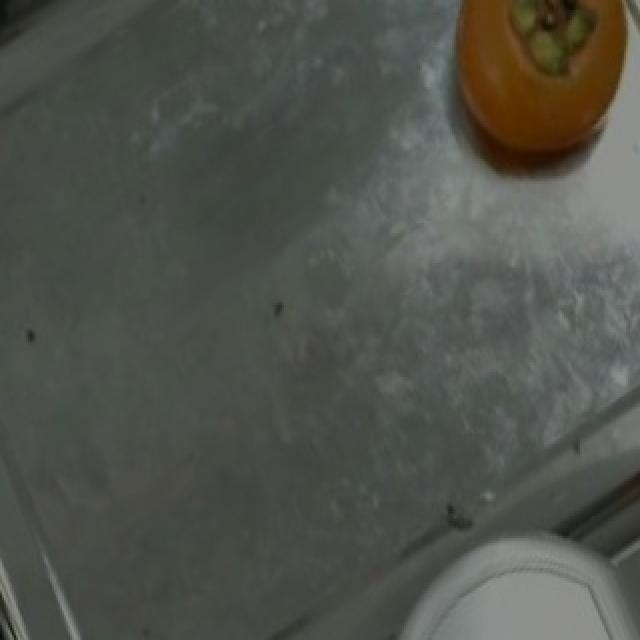Fruit: (424, 2, 640, 191), (408, 553, 636, 640)
